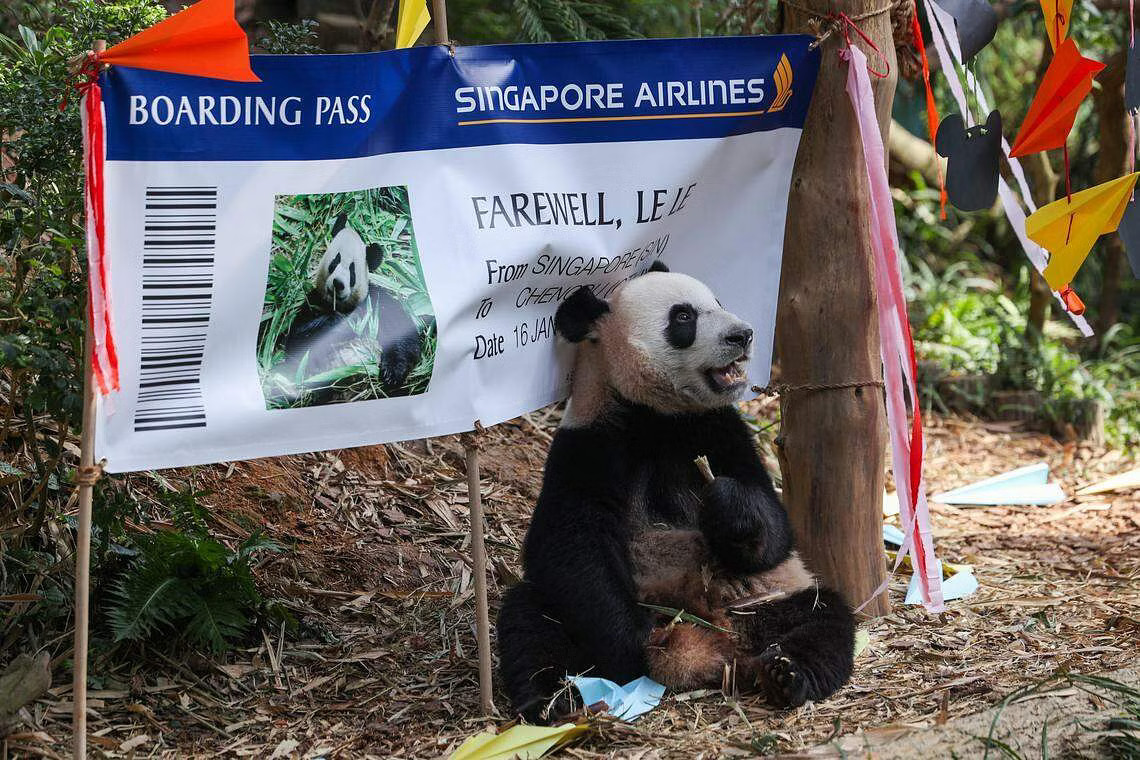Giant panda: (550, 260, 756, 402), (312, 212, 387, 315)
